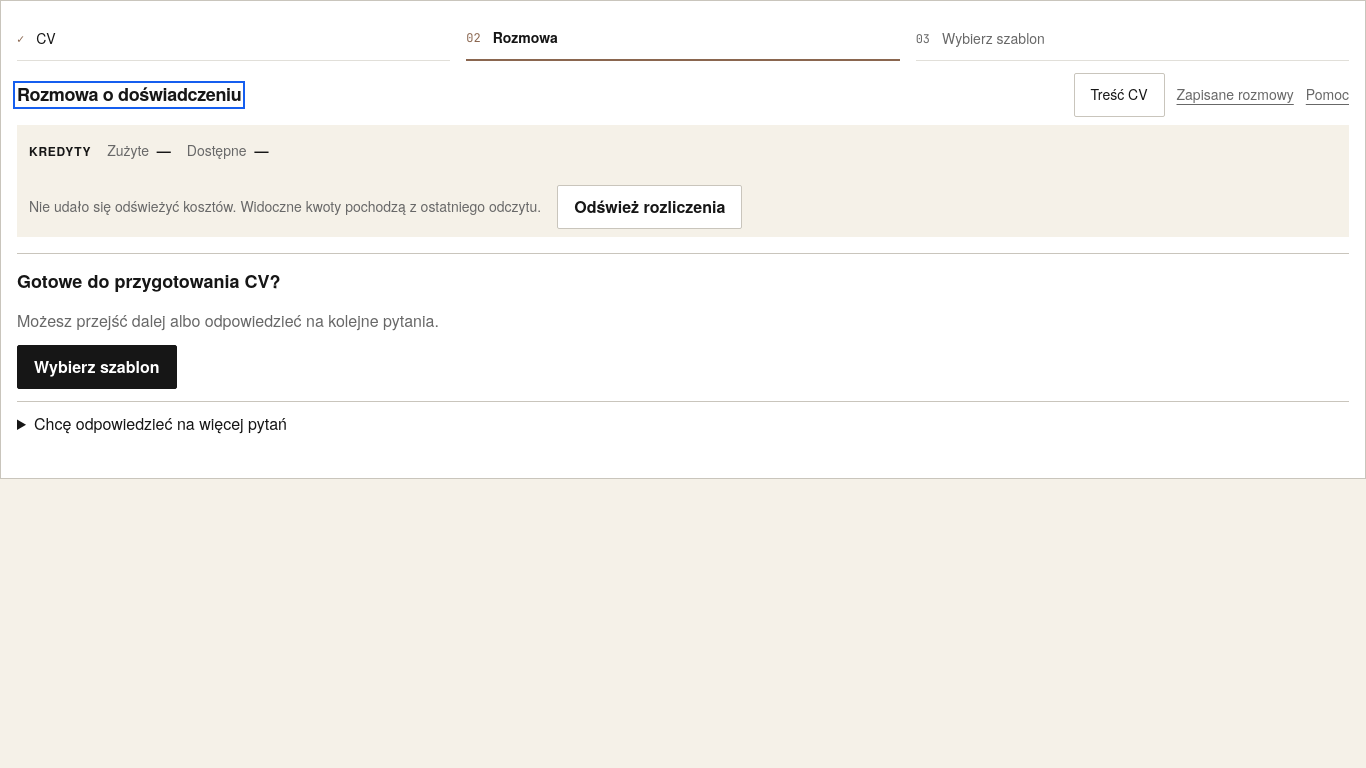
it: interview workflow › finishes a bounded round without claiming every record was discussed
This screenshot has width=1366, height=768.
Expected: the button "Wybierz szablon" is shown, [17,345,176,389]
What coordinates should you click on to do the following:
click the heading "Chcę odpowiedzieć na więcej pytań"
I would click on:
 (160, 423)
Its box is [34,412,287,435].
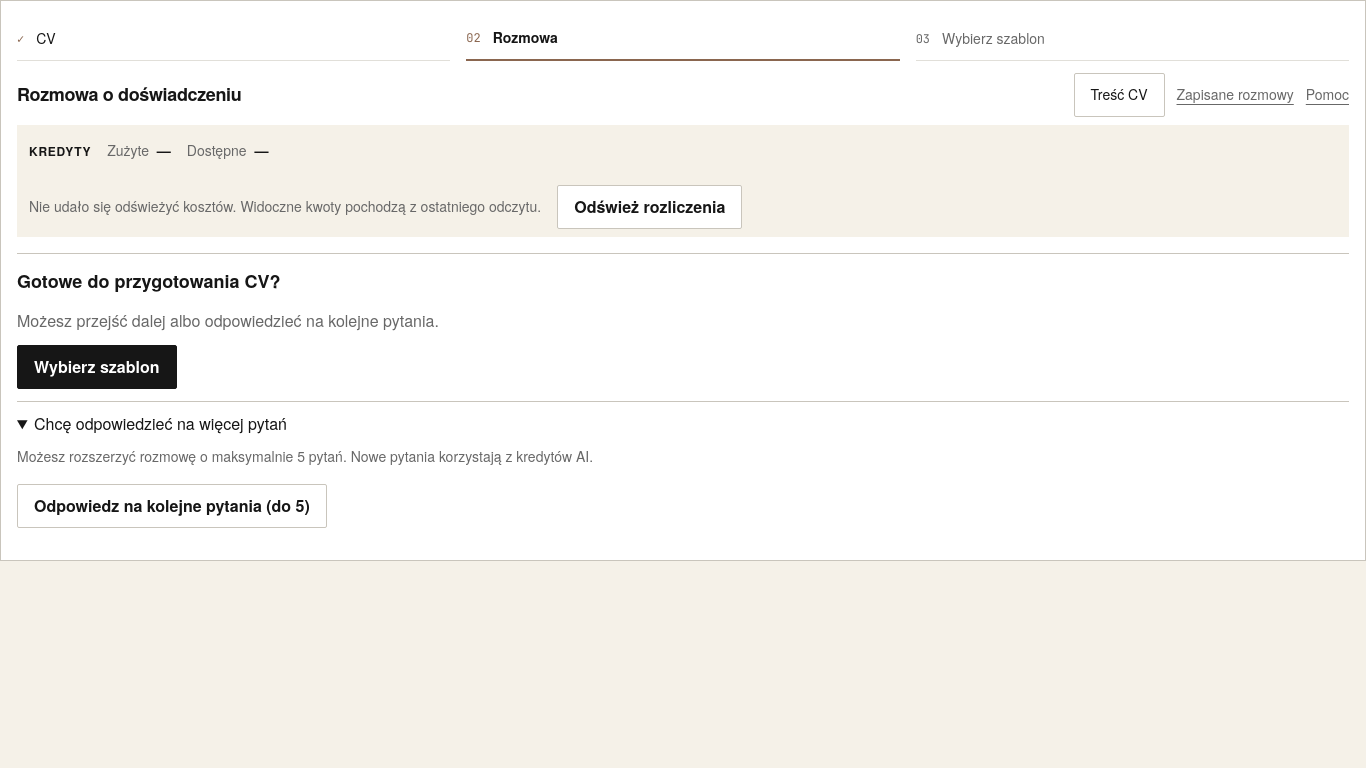
Expected: the button "Odpowiedz na kolejne pytania (do 5)" is enabled, [17,484,327,528]
